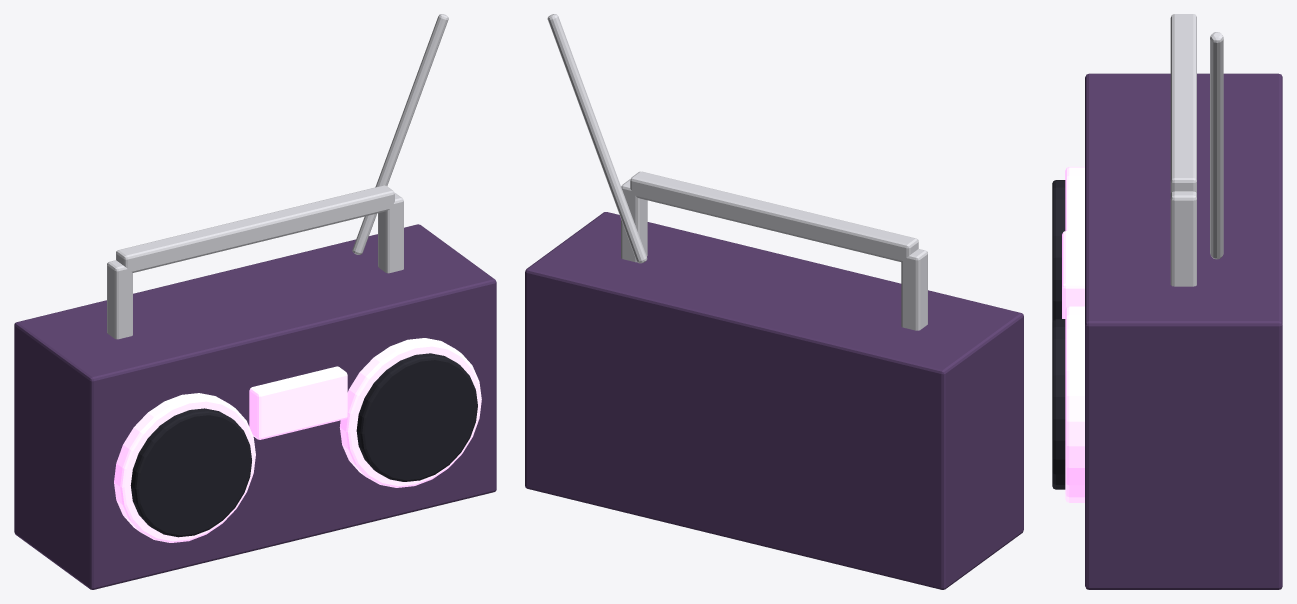
The model's file is boombox.glb.
3 views of the same model, side by side, from view 1: azimuth 30°, elevation 25°; view 2: azimuth 150°, elevation 25°; view 3: azimuth 270°, elevation 25° (orthographic). The views are drawn at different scales.
Visible parts, largest first — view 1: boombox; view 2: boombox; view 3: boombox.
Boxes of the visible parts, bbox=[...] form: boombox: bbox=[14, 14, 496, 589]; boombox: bbox=[525, 14, 1023, 589]; boombox: bbox=[1052, 14, 1282, 589].
Bounding box in the file's own units: 0.9046 × 0.932 × 0.35.
